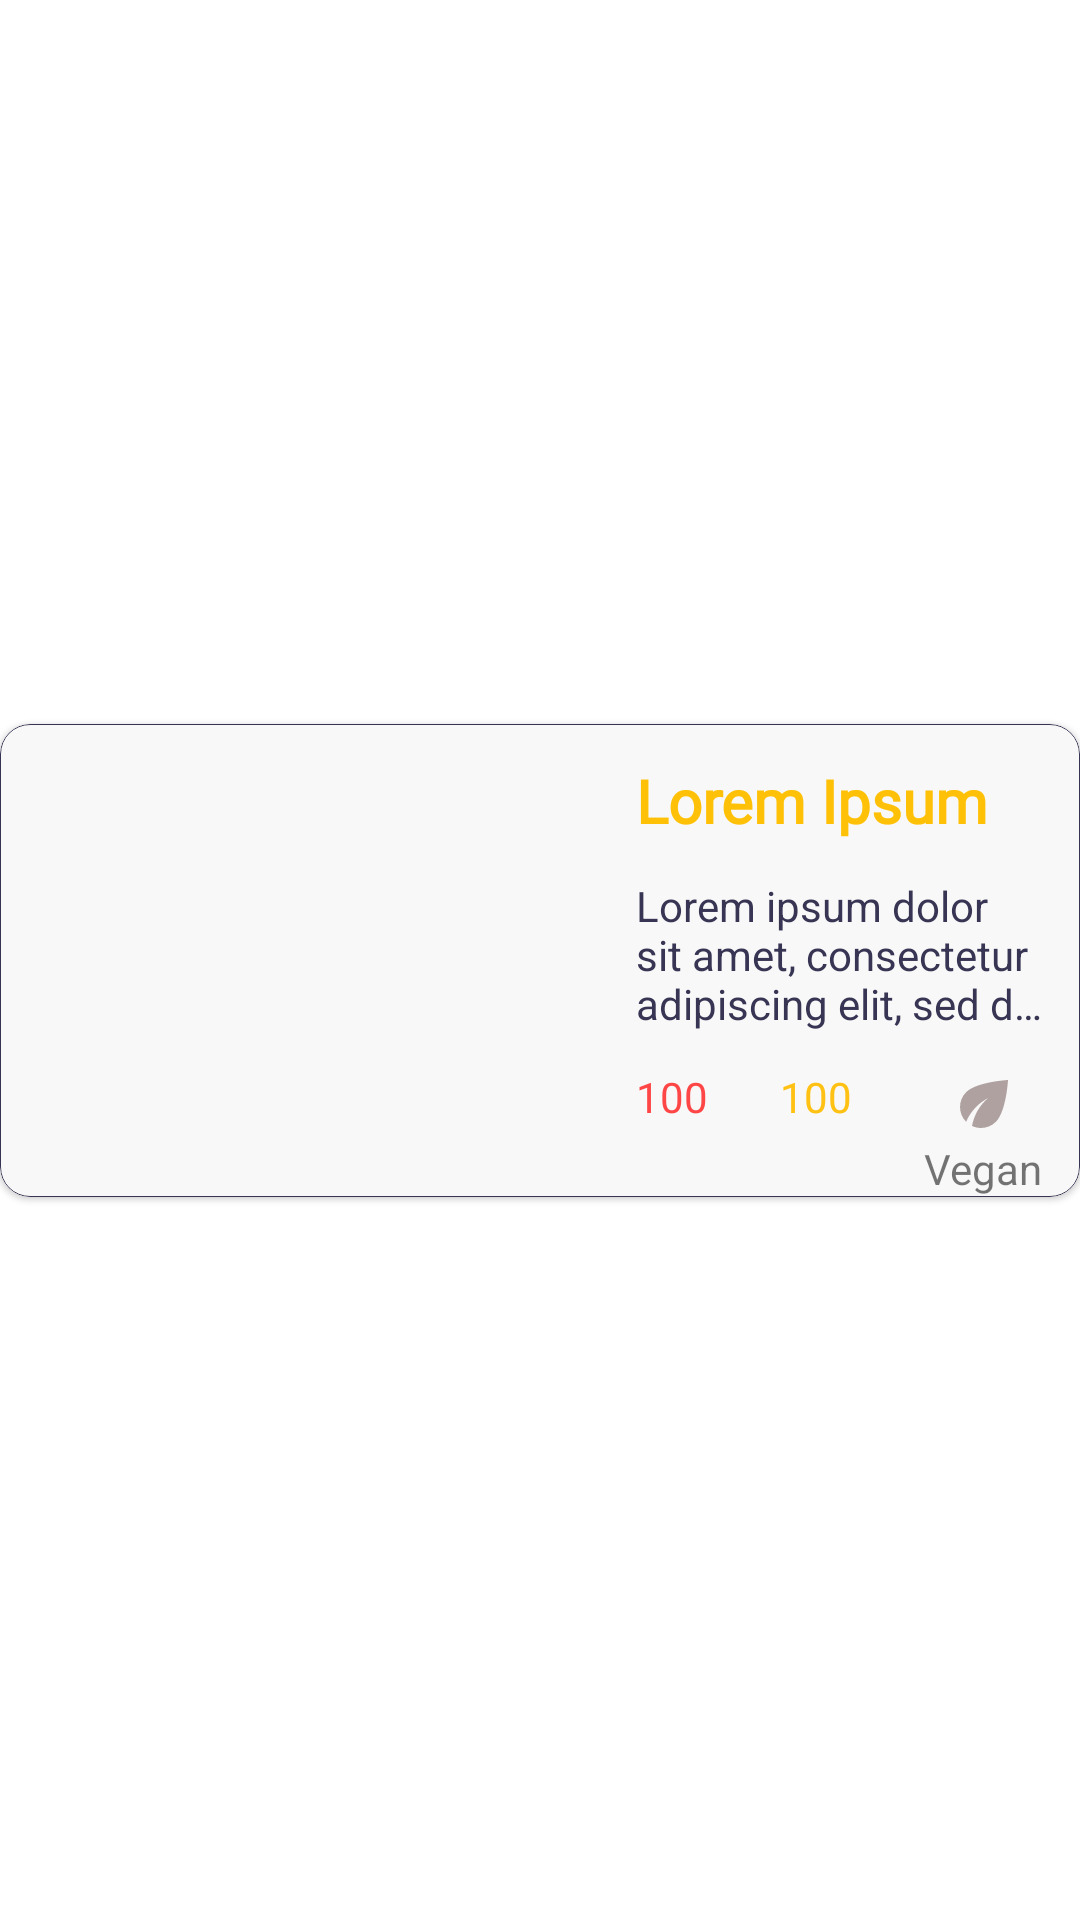

Where to tap for icons on this 1080w x 1920h app screen, as point (x, y):
leaf: point (984, 1104)
